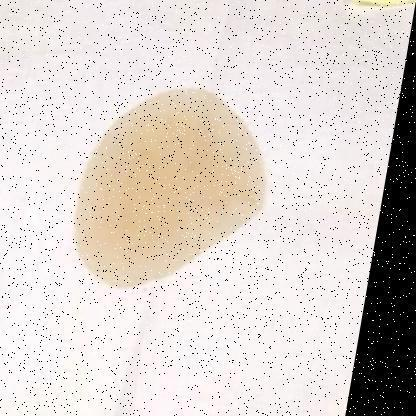coffee: (75, 85, 262, 291)
